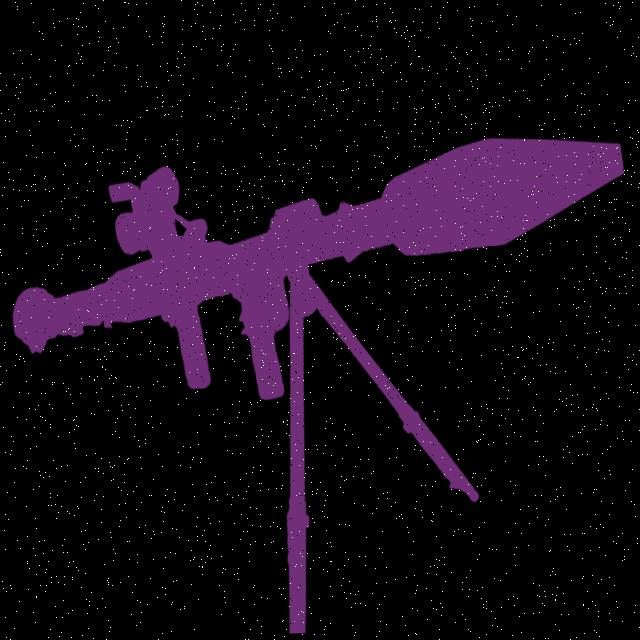grenade: (337, 110, 634, 289)
rocket: (0, 140, 368, 439)
